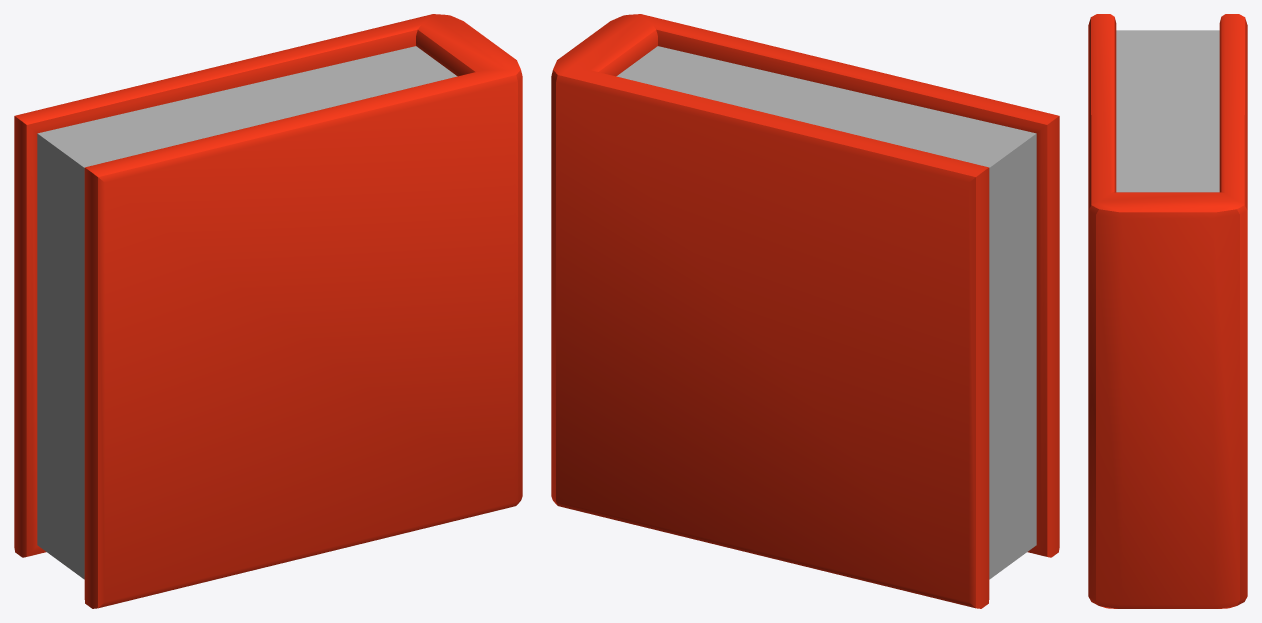
Rendered from book_1.glb.
3 views of the same model, side by side, from view 1: azimuth 30°, elevation 25°; view 2: azimuth 150°, elevation 25°; view 3: azimuth 270°, elevation 25° (orthographic). The views are drawn at different scales.
Parts seen in each view (by area): view 1: Cube.017; view 2: Cube.017; view 3: Cube.017.
Boxes of the visible parts, <box> form: Cube.017: <box>14,14,522,608</box>; Cube.017: <box>551,14,1059,608</box>; Cube.017: <box>1088,14,1247,608</box>.
Bounding box in the file's own units: 0.2302 × 0.2186 × 0.0786.
Materials: 1 (1 with a texture image).
